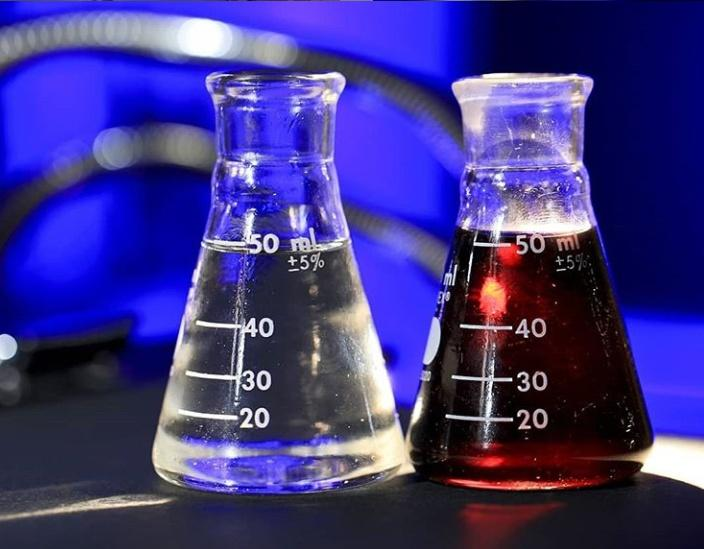Titrarion: (147, 41, 412, 507), (413, 66, 646, 499)
